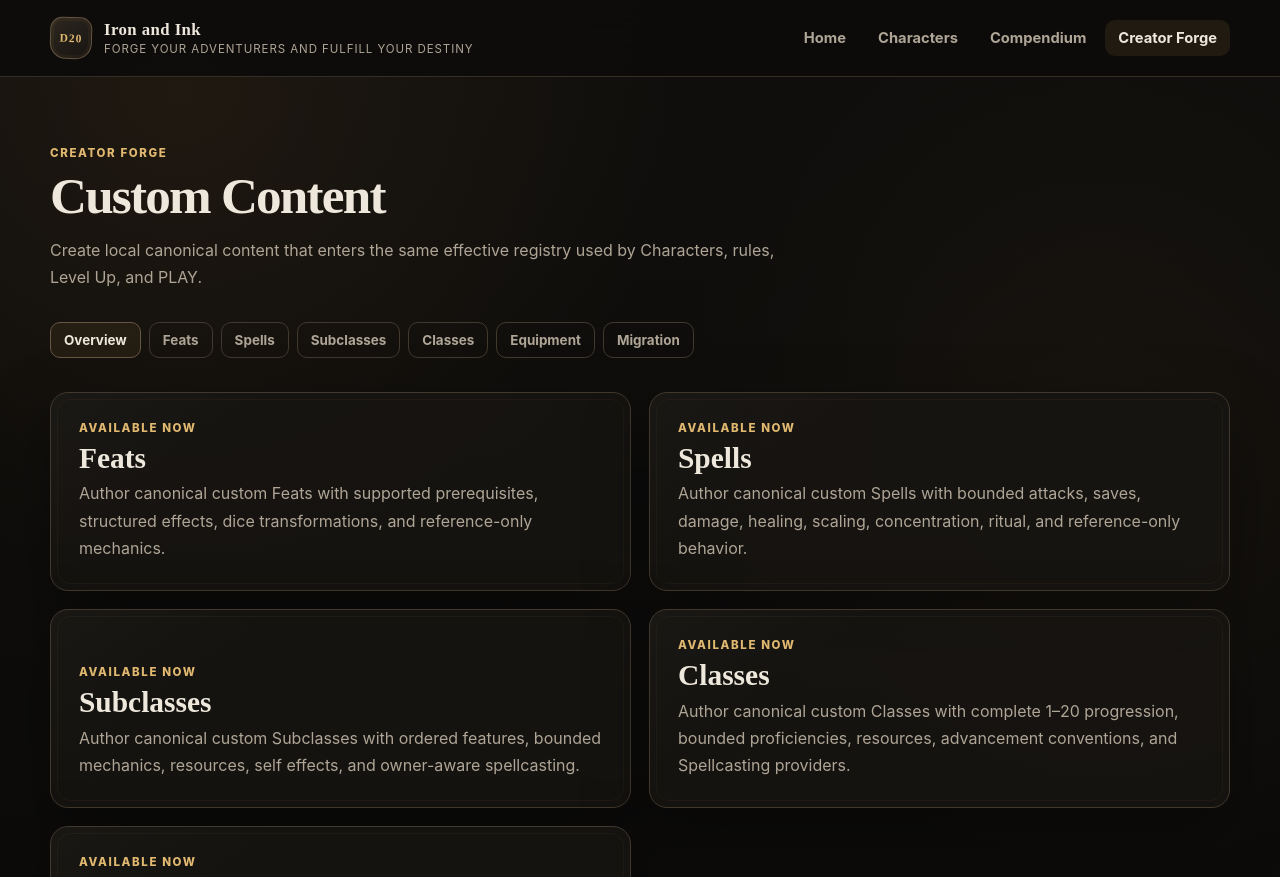
Scenario: Creator Forge equipment routes and manager › links Equipment from the overview and shared Forge navigation
What coordinates should you click on to do the following:
click the link "Equipment"
I would click on:
 (546, 340)
Its box is [496,322,595,358].
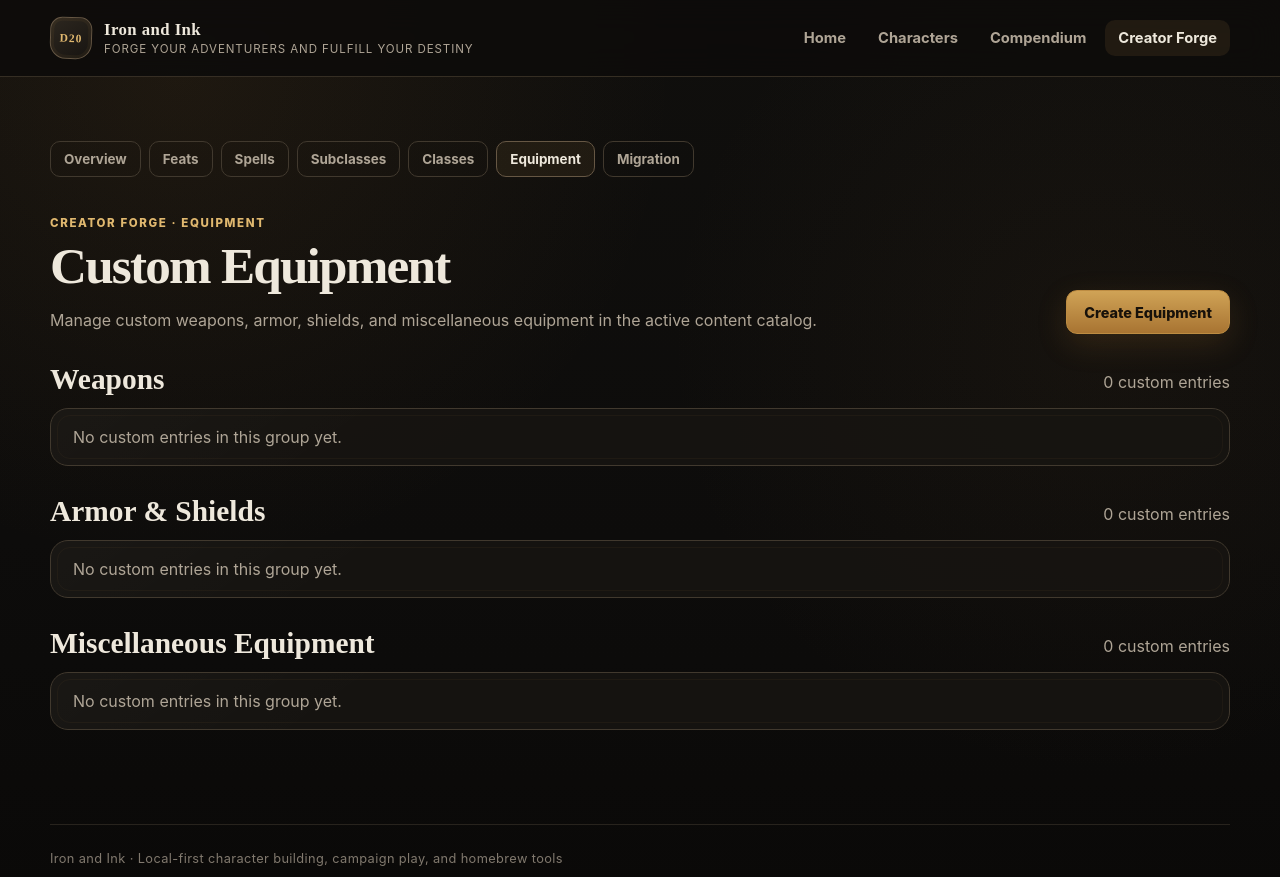
Expected: the heading "Custom Equipment" is shown, [50,237,449,294]
